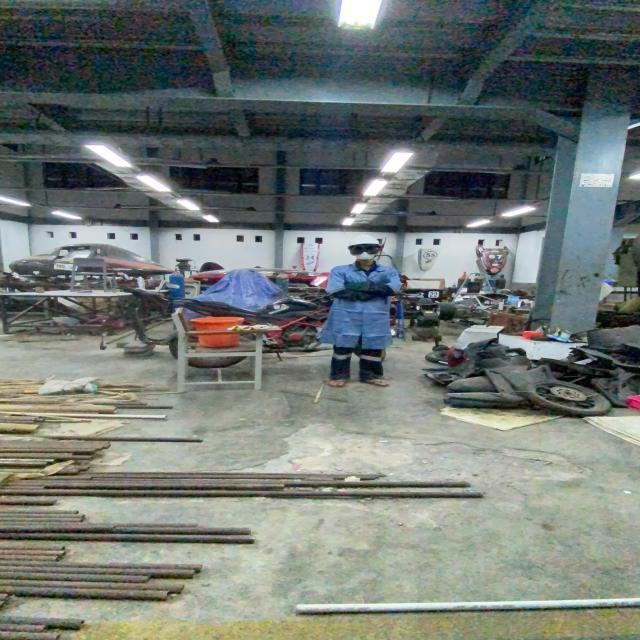glasses: (346, 244, 382, 256)
